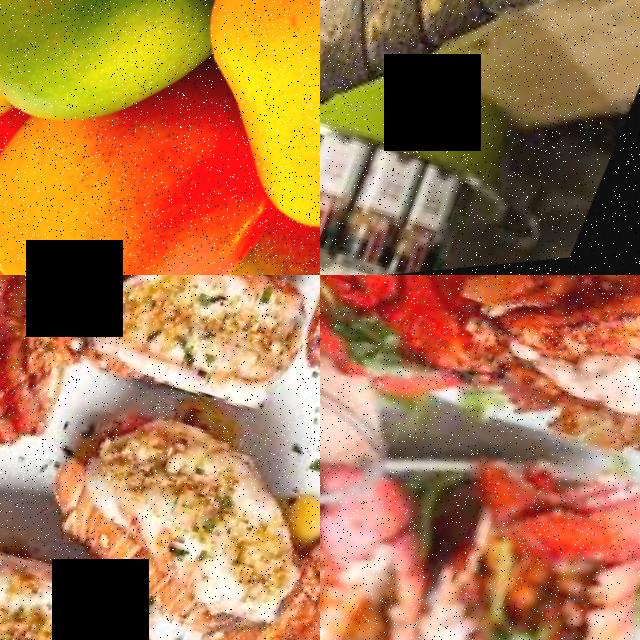lobster tails: (320, 275, 640, 559), (320, 0, 640, 232), (44, 377, 320, 640), (0, 275, 308, 493), (401, 429, 640, 640), (0, 444, 179, 640), (144, 275, 320, 388)
mango: (0, 96, 261, 275), (0, 0, 257, 166), (179, 0, 320, 190)
